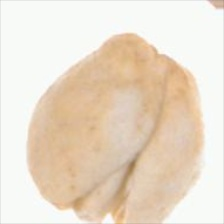L3: (45, 193, 130, 224)
L4: (25, 33, 204, 224)
